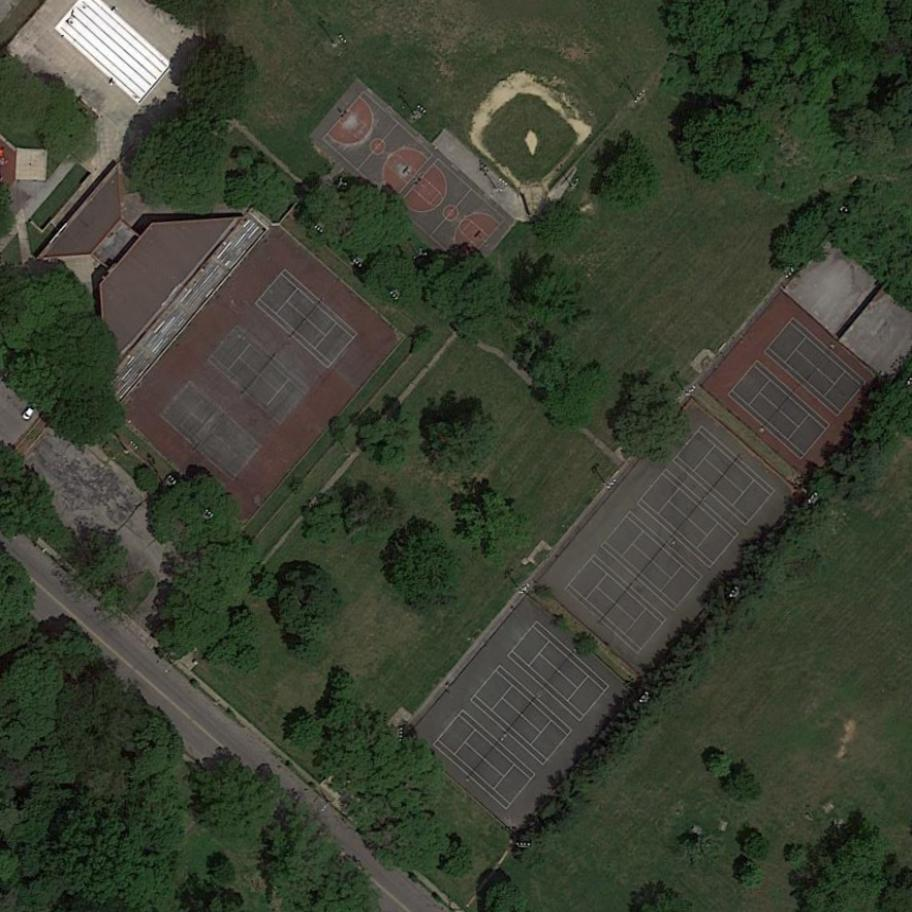large-vehicle: (20, 398, 42, 424)
